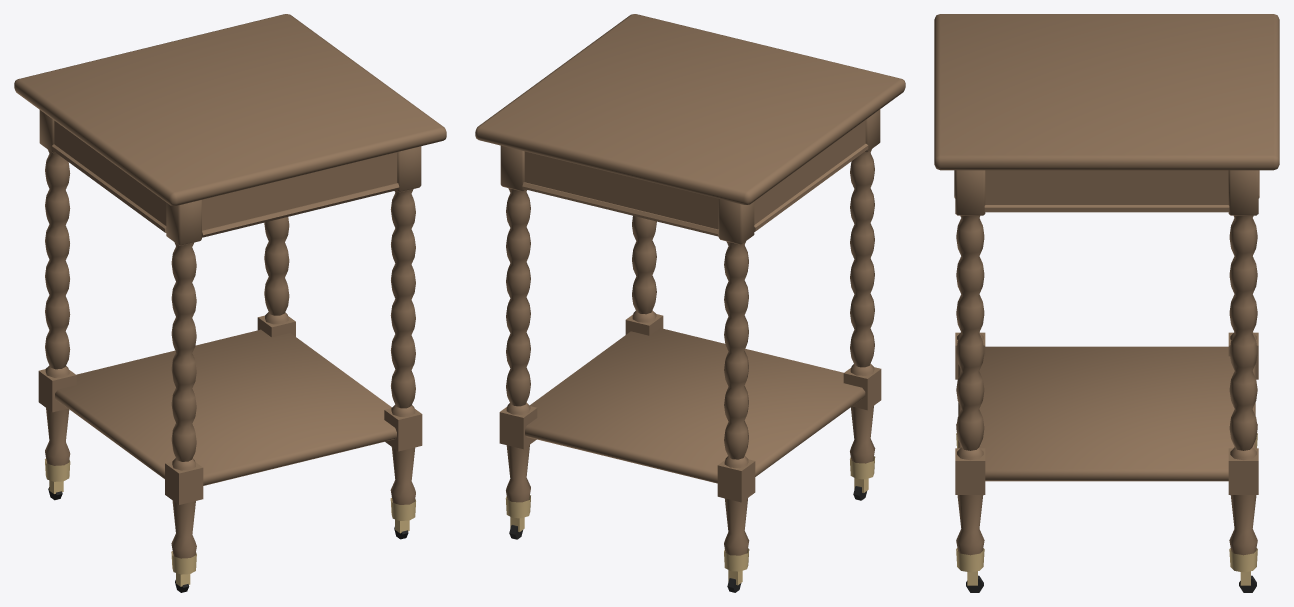
File: Kit_SideTableTurned.fbx
3 views of the same model, side by side, from view 1: azimuth 30°, elevation 25°; view 2: azimuth 150°, elevation 25°; view 3: azimuth 270°, elevation 25° (orthographic). The views are drawn at different scales.
Visible parts, largest first — view 1: Kit_SideTableTurned_LOD0; view 2: Kit_SideTableTurned_LOD0; view 3: Kit_SideTableTurned_LOD0.
Boxes of the visible parts, box(x1,y1,x2,y2) form: Kit_SideTableTurned_LOD0: box(14, 14, 446, 592); Kit_SideTableTurned_LOD0: box(475, 14, 905, 592); Kit_SideTableTurned_LOD0: box(934, 14, 1279, 592).
Size of what is drawn, in the model's own units: 0.46 by 0.66 by 0.46.
